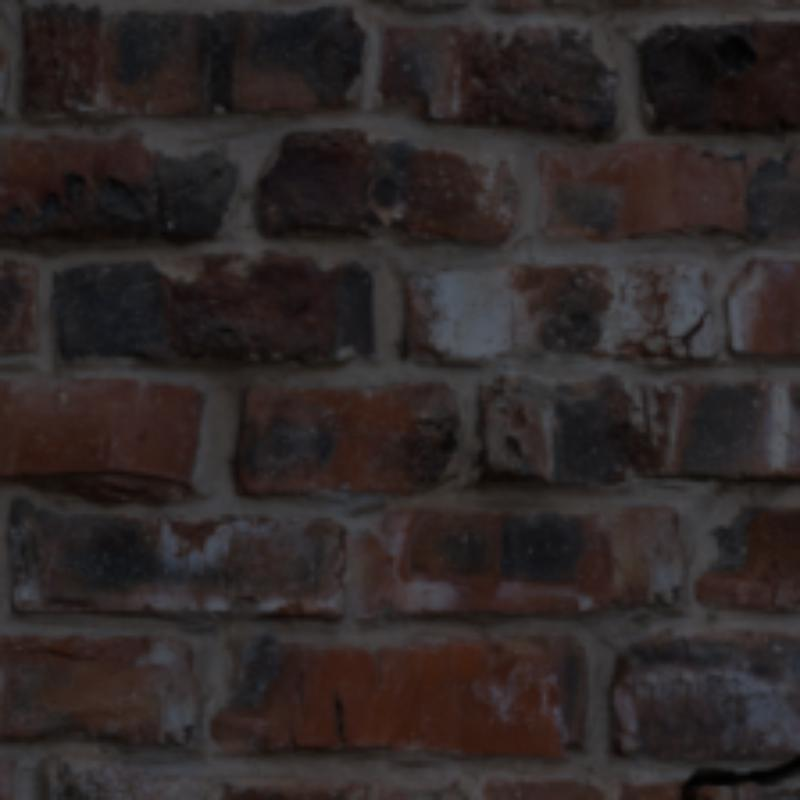pothole: (682, 757, 796, 796), (679, 314, 711, 357)
